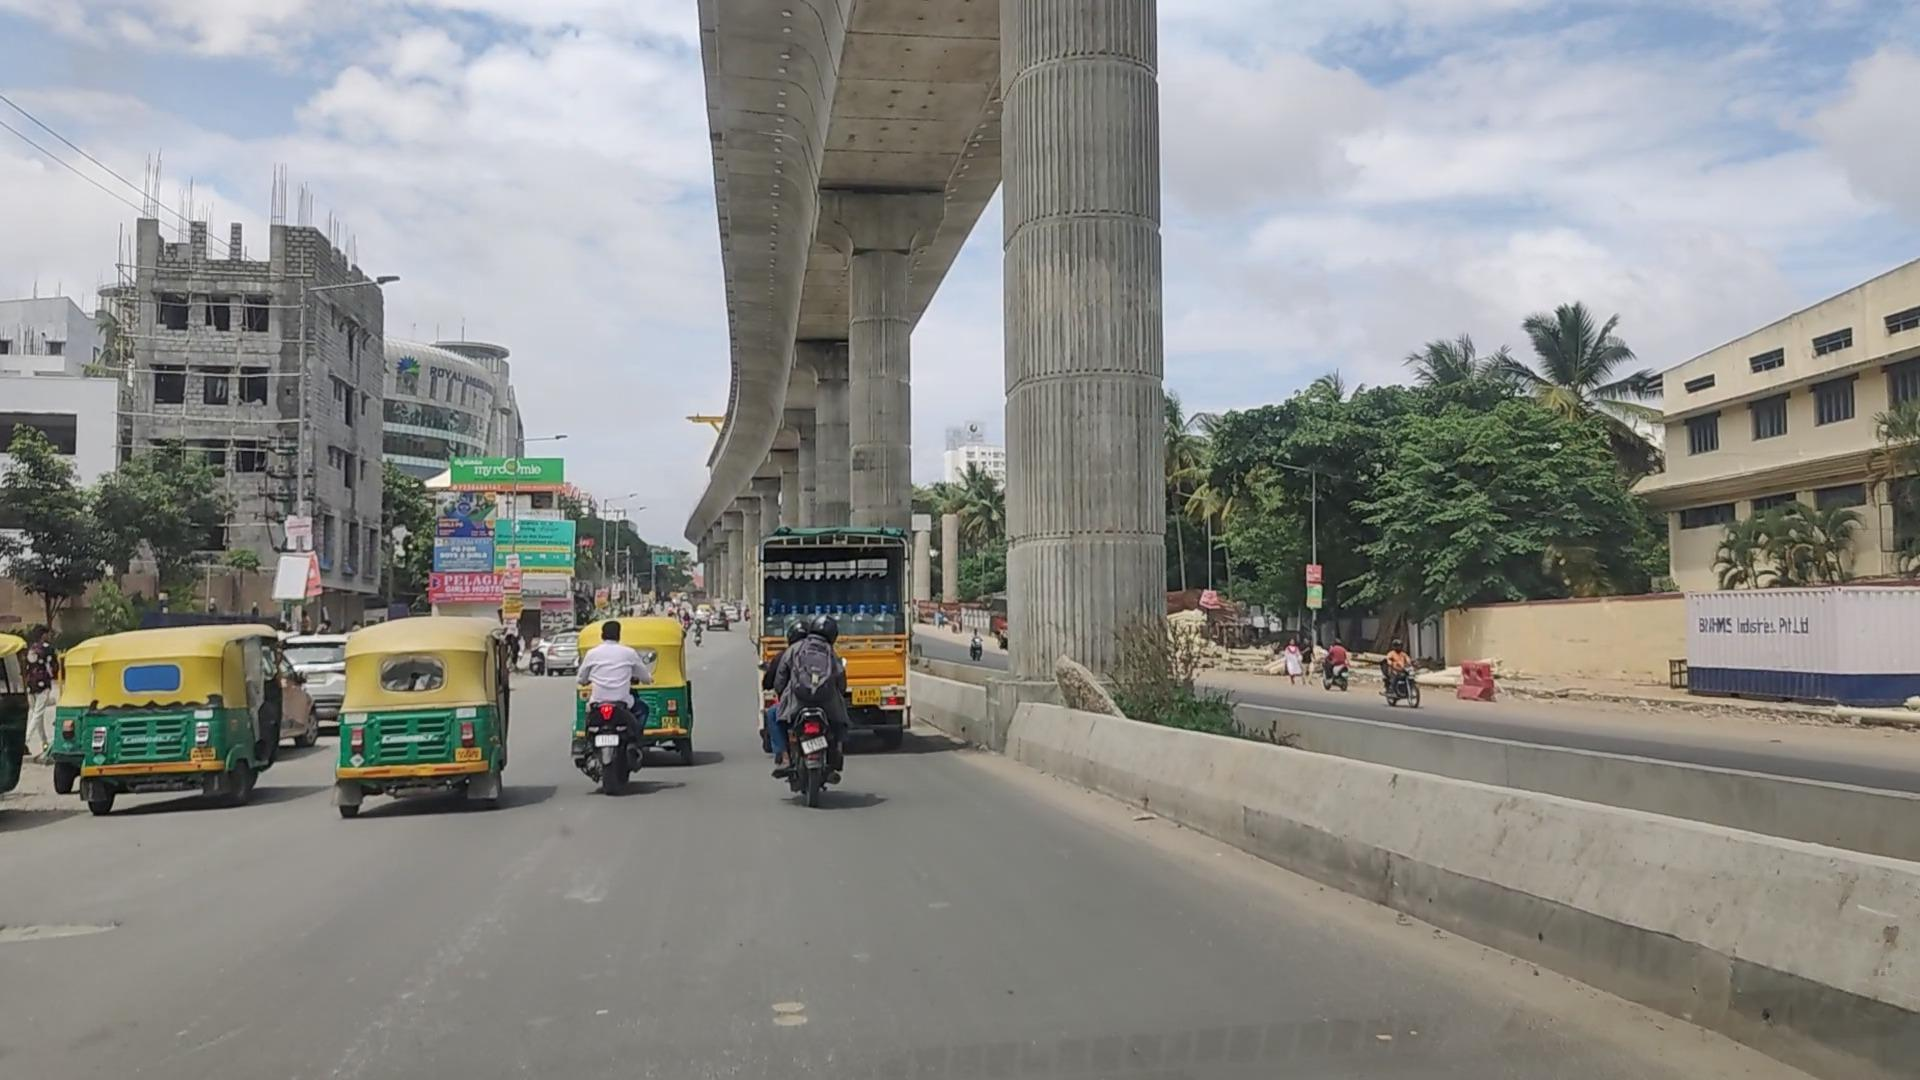HMV: (738, 538, 894, 745)
LMV: (84, 630, 291, 812), (334, 616, 508, 804), (771, 607, 845, 800), (571, 621, 634, 798)
RoadDamages: (1, 902, 137, 951)
